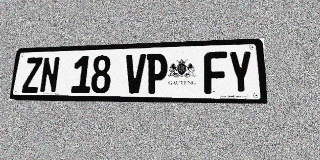1: (71, 56, 93, 93)
8: (90, 55, 112, 93)
F: (204, 51, 228, 94)
N: (39, 57, 60, 93)
P: (145, 53, 168, 94)
V: (124, 54, 146, 94)
Y: (228, 51, 254, 94)
Z: (21, 57, 43, 93)
